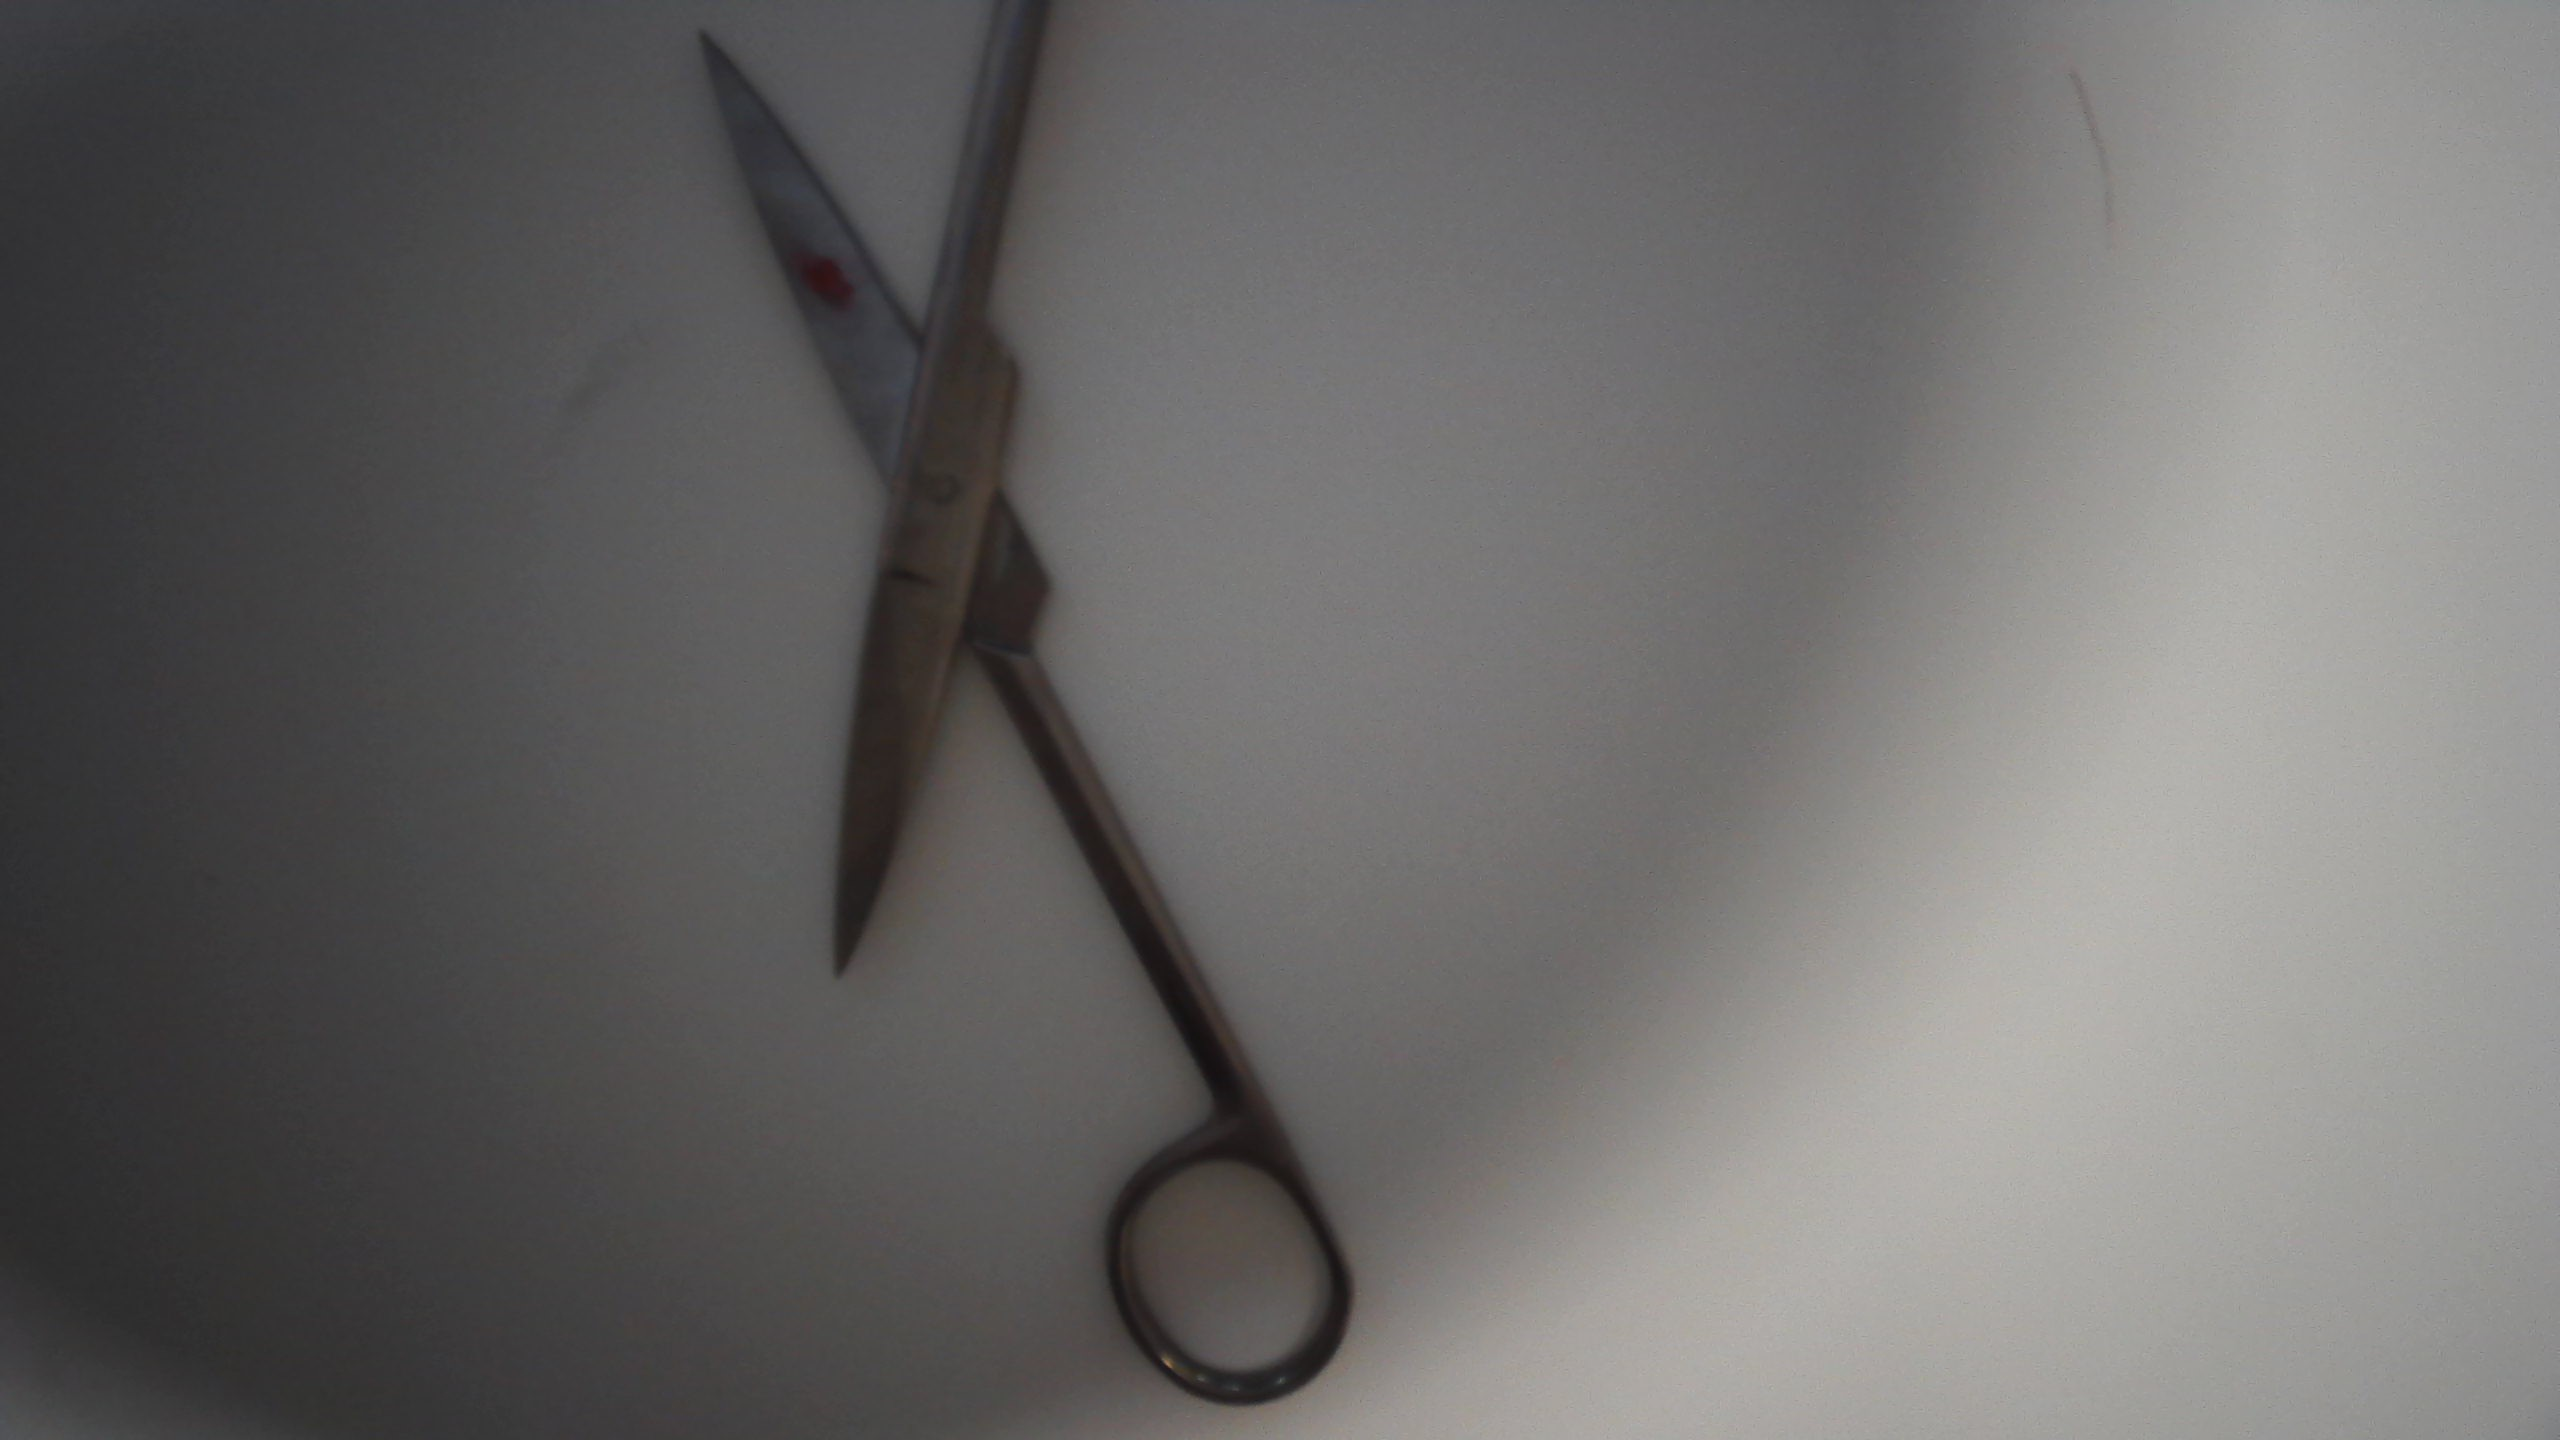Stain: (793, 243, 869, 322)
